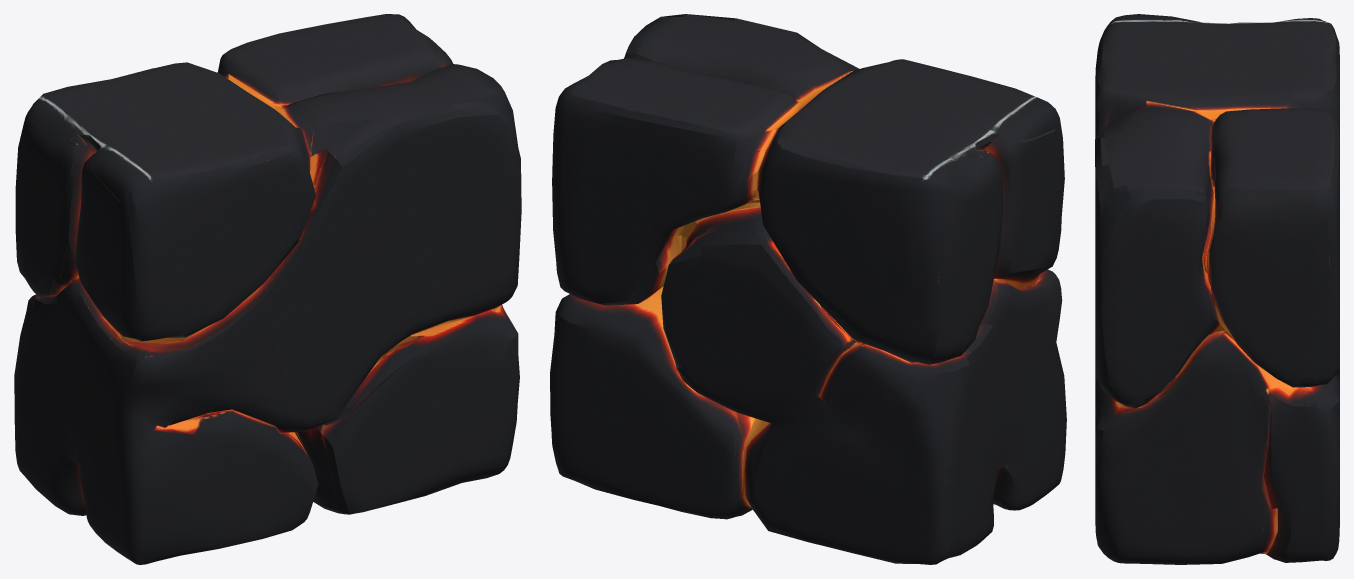
File: brick_cracked.glb
The picture shows the model from 3 angles, left to right: view 1: azimuth 30°, elevation 25°; view 2: azimuth 150°, elevation 25°; view 3: azimuth 270°, elevation 25°; orthographic projection. The views are drawn at different scales.
Visible parts, largest first — view 1: Mesh_0; view 2: Mesh_0; view 3: Mesh_0.
Part boxes in pixels (x1,y1,x2,y2): Mesh_0: [14, 14, 521, 564]; Mesh_0: [550, 14, 1066, 564]; Mesh_0: [1095, 14, 1339, 564].
Size of the model in its own units: 1.9 by 1.77 by 1.05.
Materials: 1 (1 with a texture image).
